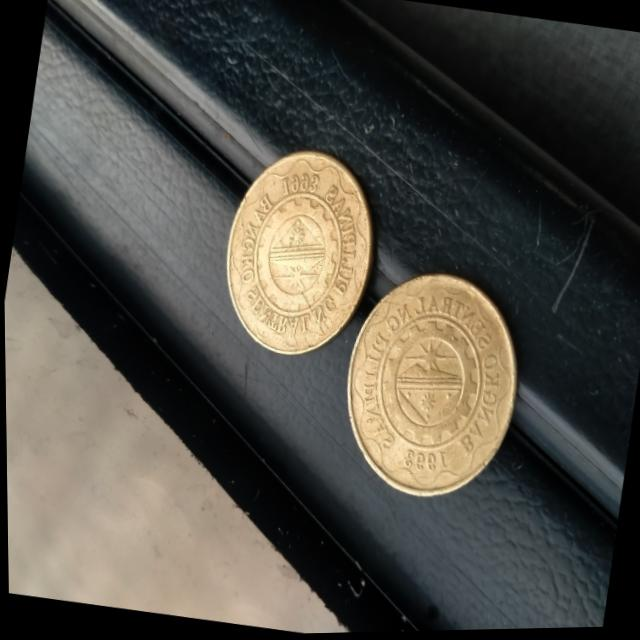5_Old_Back: (324, 247, 543, 542), (207, 138, 384, 367)
